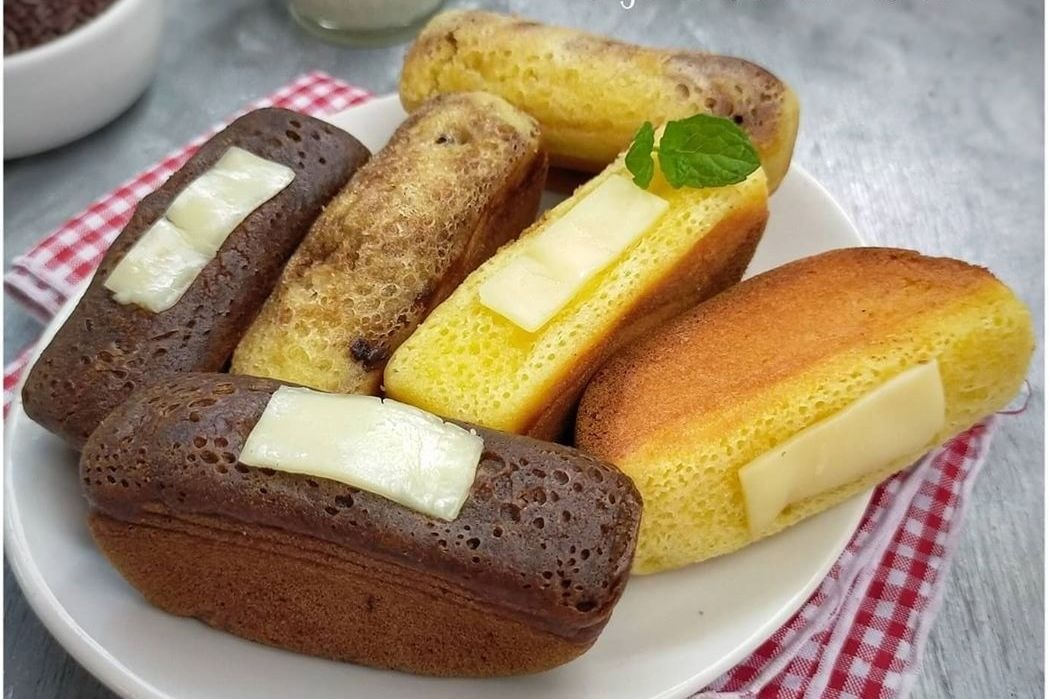pukis: (41, 354, 645, 686)
